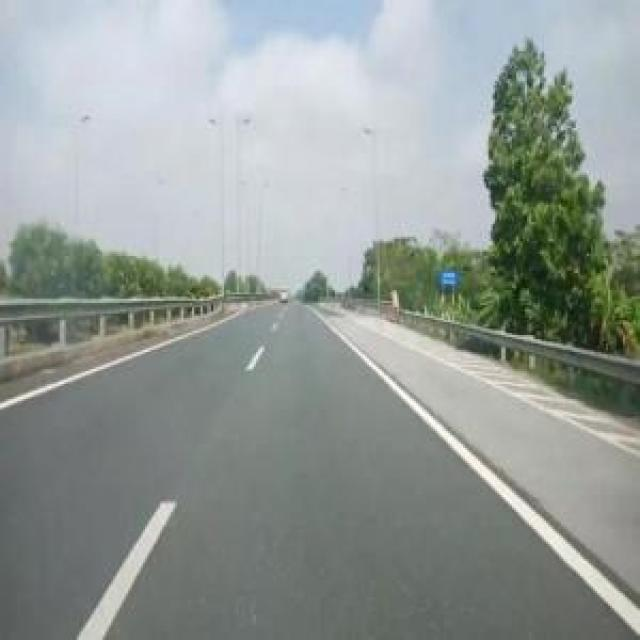clear-road: (0, 305, 635, 640), (0, 305, 622, 640)
